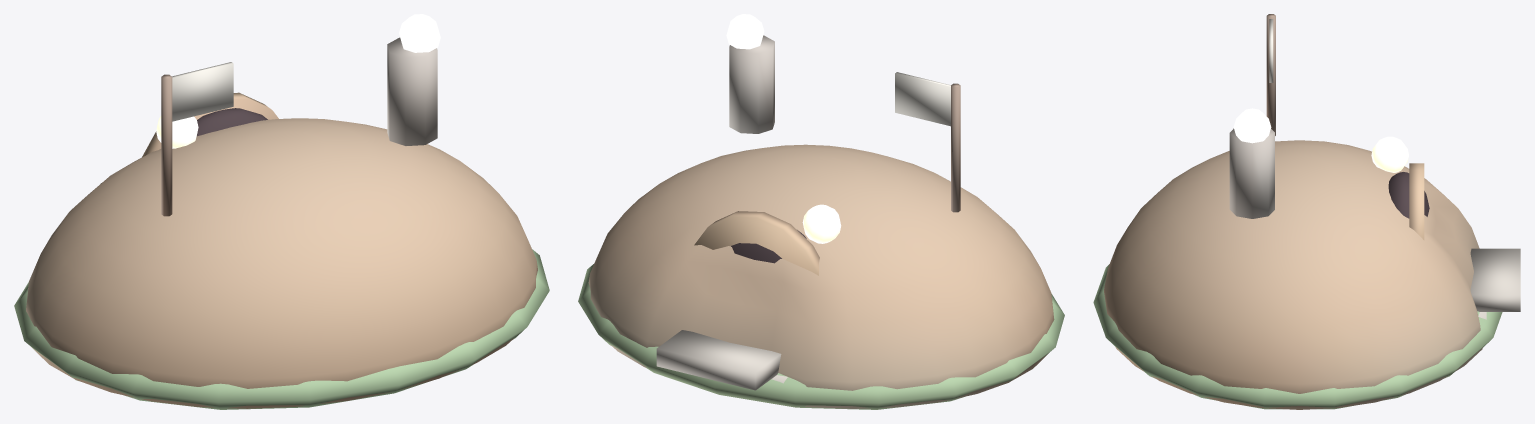
The model's file is den.glb.
3 views of the same model, side by side, from view 1: azimuth 30°, elevation 25°; view 2: azimuth 150°, elevation 25°; view 3: azimuth 270°, elevation 25° (orthographic). The views are drawn at different scales.
Parts seen in each view (by area): view 1: Mound, MossSkirt, Chimney, Flag, Pole, CloudSmoke, Mouth, Trim, GlowWindow; view 2: Mound, MossSkirt, Step.001, Chimney, Trim, Flag, Pole, GlowWindow, CloudSmoke, Mouth; view 3: Mound, MossSkirt, Chimney, Step.001, Trim, GlowWindow, CloudSmoke, Pole, Mouth.
Boxes of the visible parts, x1,y1,x2,y2 form: Mound: [26, 118, 537, 408]; MossSkirt: [14, 249, 549, 409]; Chimney: [387, 37, 437, 145]; Flag: [172, 62, 233, 121]; Pole: [161, 74, 172, 216]; CloudSmoke: [399, 14, 440, 52]; Mouth: [197, 108, 267, 136]; Trim: [142, 92, 278, 157]; GlowWindow: [156, 116, 198, 148]; Mound: [588, 144, 1054, 408]; MossSkirt: [578, 264, 1064, 409]; Step.001: [656, 330, 781, 390]; Chimney: [729, 35, 774, 133]; Trim: [694, 211, 819, 275]; Flag: [895, 72, 950, 126]; Pole: [951, 83, 960, 212]; GlowWindow: [802, 204, 841, 243]; CloudSmoke: [726, 14, 764, 49]; Mouth: [731, 230, 806, 263]; Mound: [1104, 140, 1482, 409]; MossSkirt: [1093, 264, 1502, 409]; Chimney: [1229, 128, 1274, 218]; Step.001: [1470, 248, 1520, 311]; Trim: [1409, 163, 1424, 240]; GlowWindow: [1371, 136, 1408, 172]; CloudSmoke: [1233, 108, 1271, 143]; Pole: [1266, 14, 1275, 135]; Mouth: [1388, 172, 1429, 218].
Bounding box in the file's own units: 2.53 × 1.61 × 2.26.
